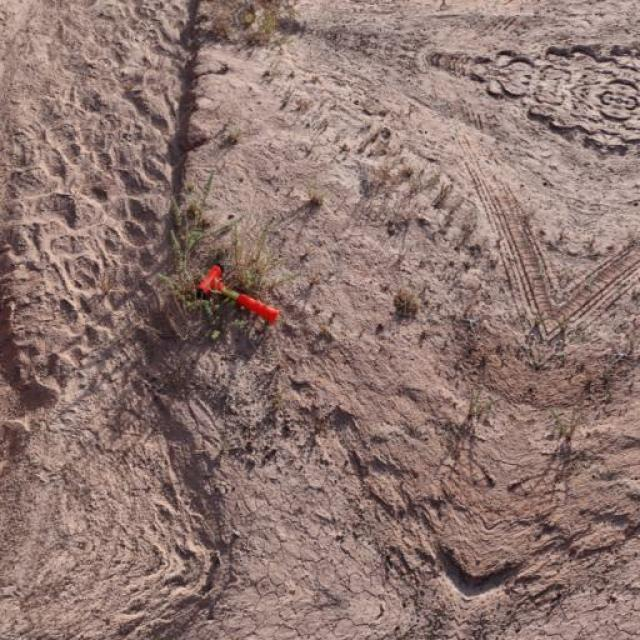mallet: (194, 263, 281, 325)
